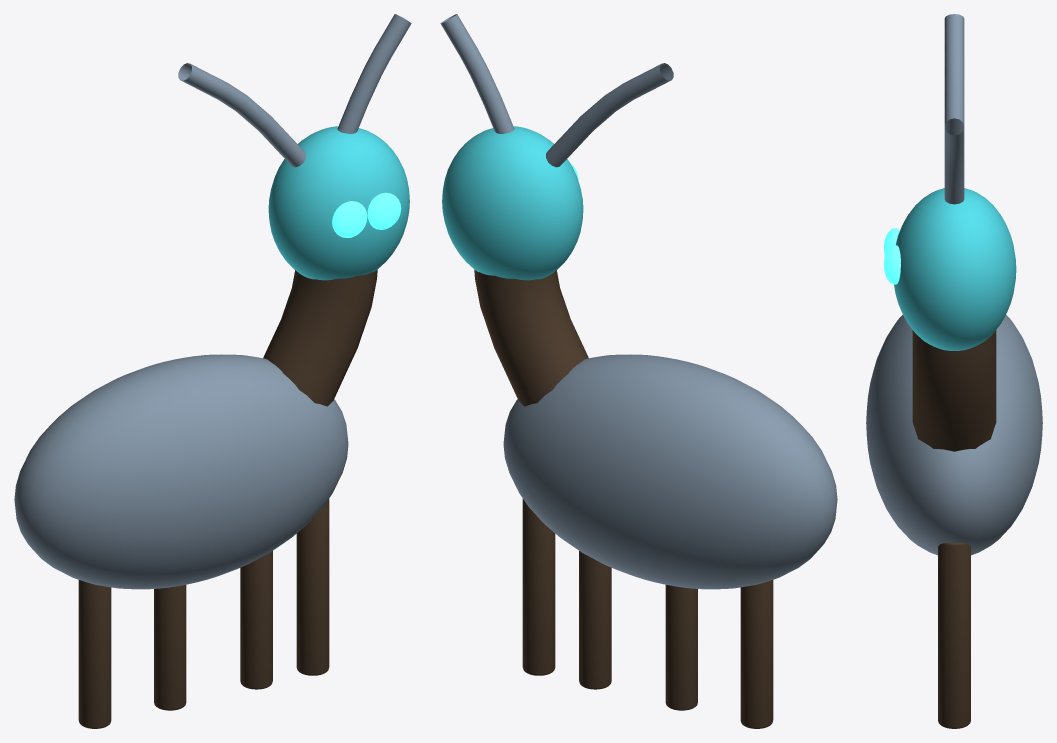
The model's file is beast_v4.glb.
The picture shows the model from 3 angles, left to right: view 1: azimuth 30°, elevation 25°; view 2: azimuth 150°, elevation 25°; view 3: azimuth 270°, elevation 25°; orthographic projection.
Visible parts, largest first — view 1: STAG_BODY_PRIMARY, STAG_HEAD_ACCENT, STAG_NECK_SECONDARY, STAG_LEG_SECONDARY.003, STAG_LEG_SECONDARY, STAG_LEG_SECONDARY.002, STAG_LEG_SECONDARY.001, ANTLER_PRIMARY, ANTLER_PRIMARY.001, EYE_EMISSIVE, EYE_EMISSIVE.001; view 2: STAG_BODY_PRIMARY, STAG_HEAD_ACCENT, STAG_NECK_SECONDARY, STAG_LEG_SECONDARY.003, STAG_LEG_SECONDARY, STAG_LEG_SECONDARY.002, STAG_LEG_SECONDARY.001, ANTLER_PRIMARY, ANTLER_PRIMARY.001; view 3: STAG_BODY_PRIMARY, STAG_HEAD_ACCENT, STAG_NECK_SECONDARY, STAG_LEG_SECONDARY.003, ANTLER_PRIMARY, ANTLER_PRIMARY.001, EYE_EMISSIVE.001.
Boxes of the visible parts, x1,y1,x2,y2 form: STAG_BODY_PRIMARY: [14, 354, 348, 589]; STAG_HEAD_ACCENT: [268, 126, 409, 280]; STAG_NECK_SECONDARY: [263, 270, 377, 406]; STAG_LEG_SECONDARY.003: [296, 498, 329, 675]; STAG_LEG_SECONDARY: [78, 580, 111, 728]; STAG_LEG_SECONDARY.002: [240, 551, 272, 689]; STAG_LEG_SECONDARY.001: [154, 585, 186, 710]; ANTLER_PRIMARY: [178, 63, 305, 167]; ANTLER_PRIMARY.001: [337, 14, 411, 133]; EYE_EMISSIVE: [332, 201, 367, 237]; EYE_EMISSIVE.001: [367, 192, 401, 229]; STAG_BODY_PRIMARY: [503, 354, 837, 589]; STAG_HEAD_ACCENT: [442, 126, 583, 280]; STAG_NECK_SECONDARY: [474, 270, 588, 406]; STAG_LEG_SECONDARY.003: [522, 498, 555, 675]; STAG_LEG_SECONDARY: [740, 580, 773, 728]; STAG_LEG_SECONDARY.002: [579, 551, 611, 689]; STAG_LEG_SECONDARY.001: [665, 585, 697, 710]; ANTLER_PRIMARY: [546, 63, 673, 167]; ANTLER_PRIMARY.001: [440, 14, 514, 133]; STAG_BODY_PRIMARY: [866, 315, 1042, 555]; STAG_HEAD_ACCENT: [894, 188, 1016, 350]; STAG_NECK_SECONDARY: [912, 330, 996, 451]; STAG_LEG_SECONDARY.003: [938, 542, 970, 728]; ANTLER_PRIMARY: [944, 14, 964, 125]; ANTLER_PRIMARY.001: [944, 118, 964, 204]; EYE_EMISSIVE.001: [883, 245, 900, 284].
Size of the model in its own units: 2.08 by 3.24 by 0.8.
